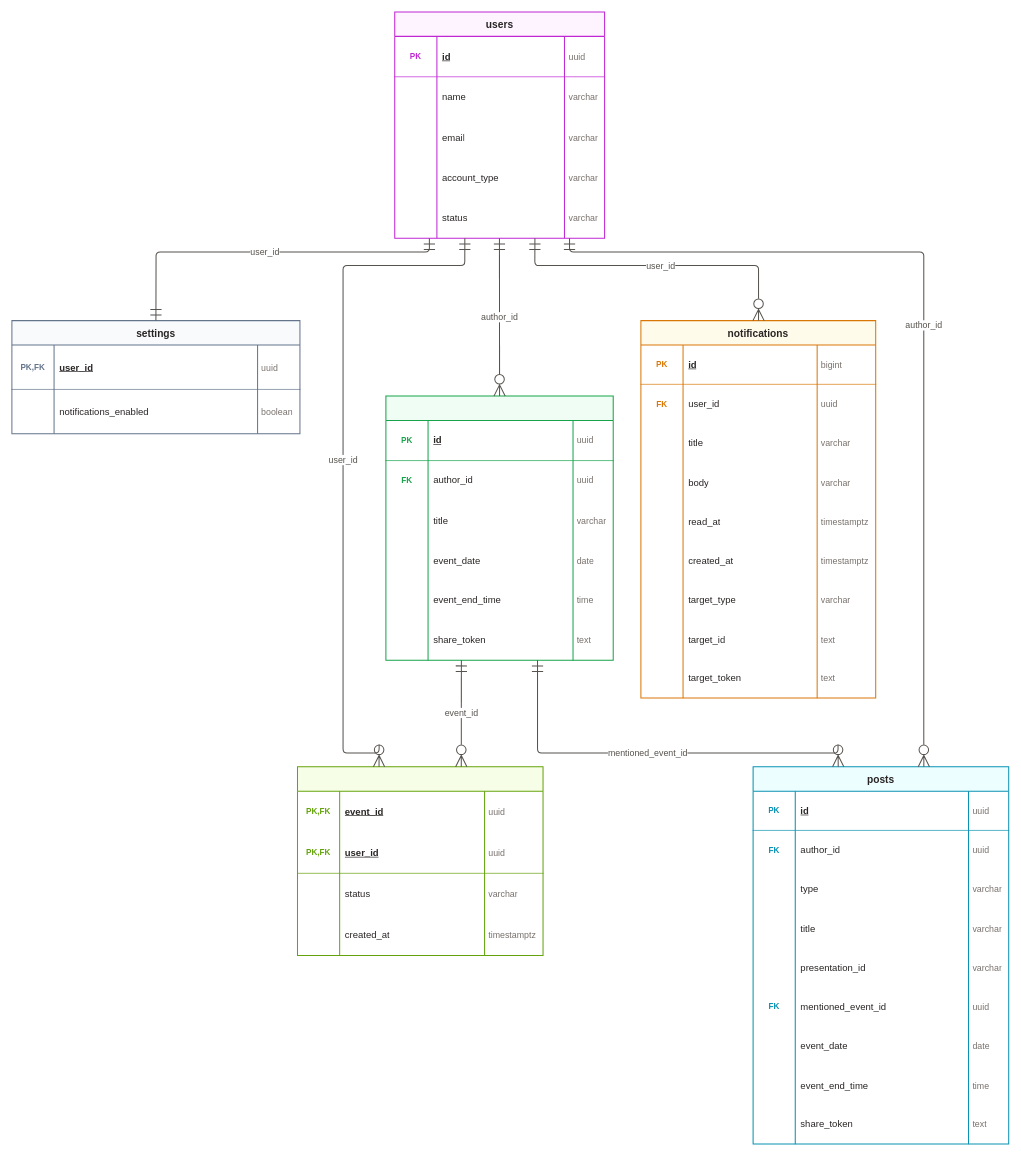
The diagram is 1021 pixels wide and 1157 high, and some of its shapes have lost their labels. The box of each missing label's shape, as (x1, y1, x2, y2) in pixels:
event_participants: (297, 766, 543, 956)
events: (385, 395, 613, 660)
